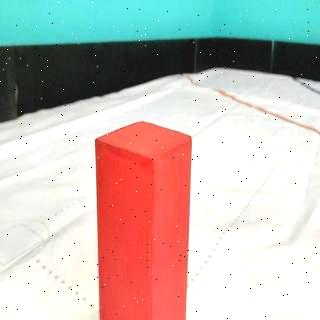redbox: (92, 119, 192, 320)
